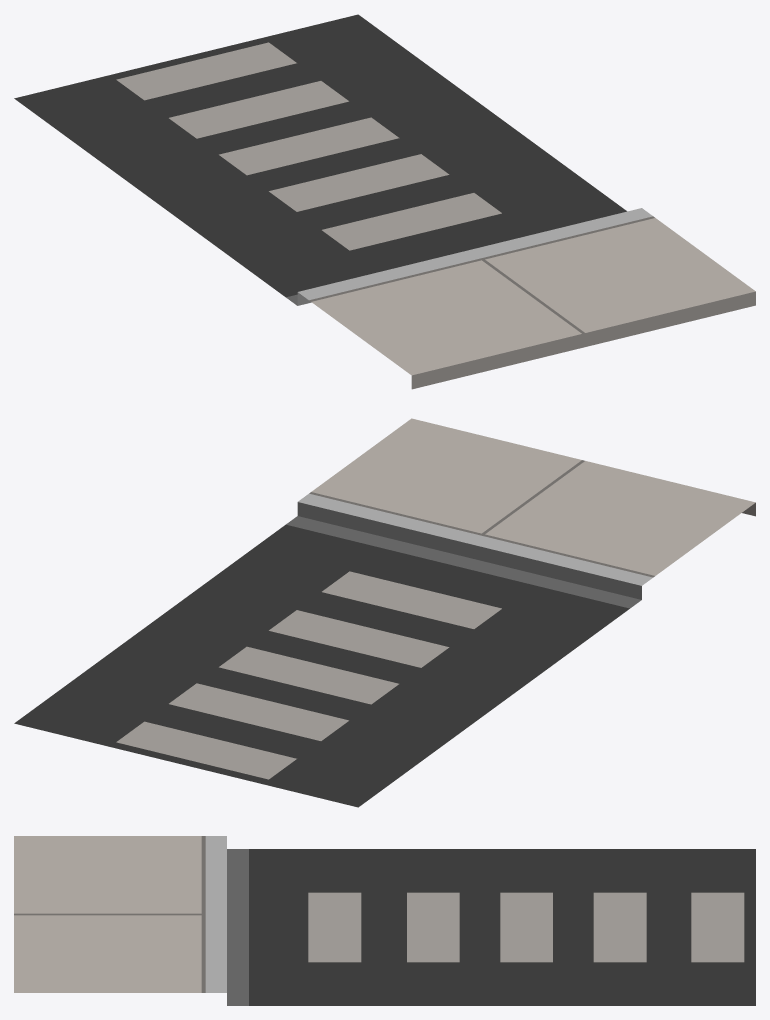
Rendered from SA_Env_Road_Crossing_01.gltf.
The picture shows the model from 3 angles, top to bottom: view 1: azimuth 30°, elevation 25°; view 2: azimuth 150°, elevation 25°; view 3: azimuth 270°, elevation 25°; orthographic projection. The views are drawn at different scales.
Visible parts, largest first — view 1: SA_Env_Road_Crossing_01; view 2: SA_Env_Road_Crossing_01; view 3: SA_Env_Road_Crossing_01.
Boxes of the visible parts, x1,y1,x2,y2 form: SA_Env_Road_Crossing_01: (14,14,755,389); SA_Env_Road_Crossing_01: (14,418,755,807); SA_Env_Road_Crossing_01: (14,836,755,1005).
Size of the model in its own units: 5 by 0.1948 by 10.
Materials: 1 (1 with a texture image).
